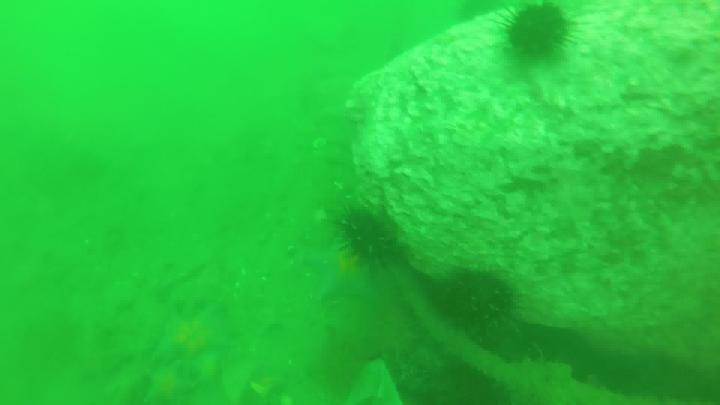echinus: (486, 3, 591, 65), (431, 272, 516, 342), (332, 210, 399, 276)
scallop: (314, 138, 328, 149)
starfish: (295, 235, 397, 300), (153, 303, 230, 377)
